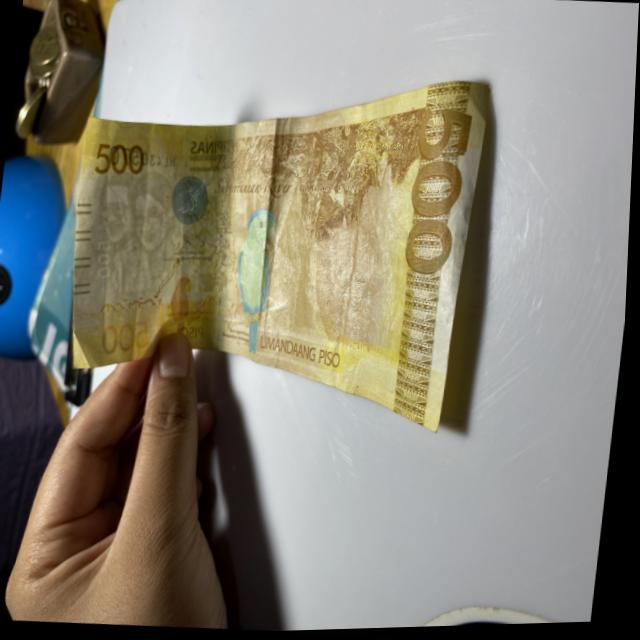500_big_parrot: (224, 213, 287, 357)
500_parrot_watermark: (166, 271, 199, 344)
value_watermark: (94, 235, 117, 285)
watermark: (82, 167, 186, 311)
